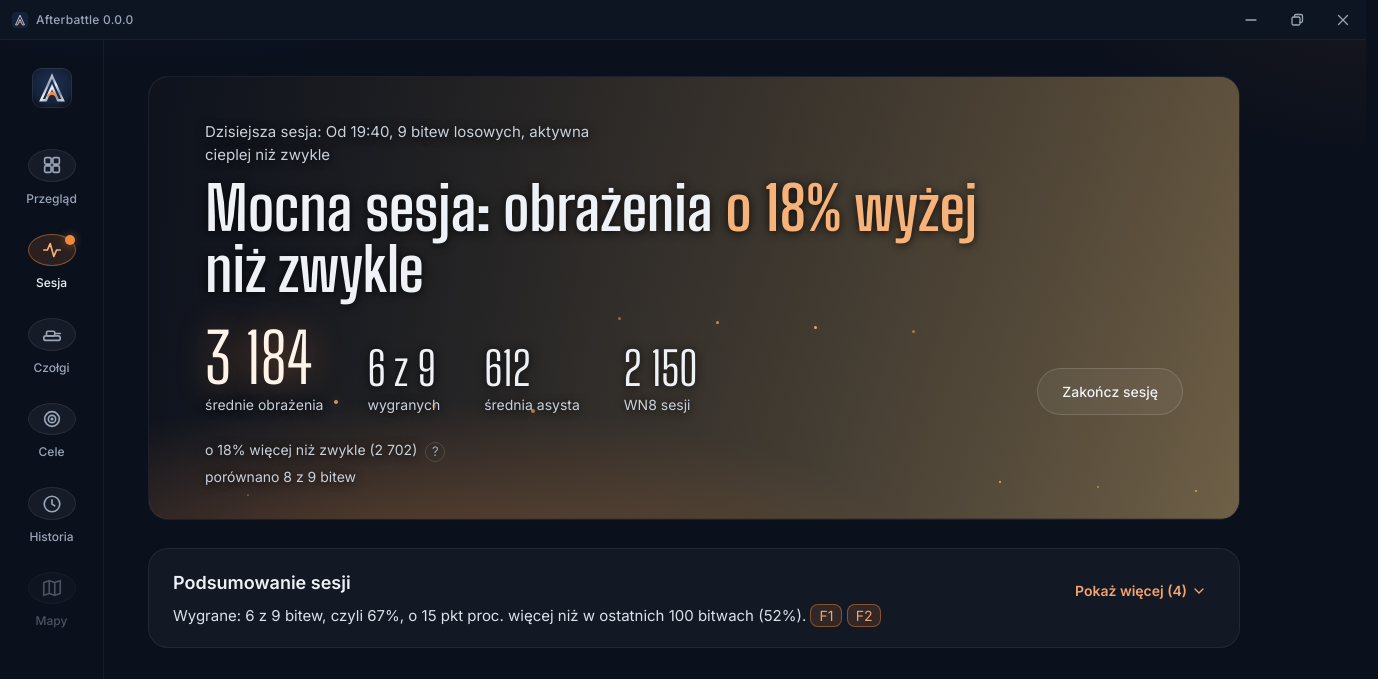
Tanks screen › compares the tank with the player's own average and shows best and worst maps
Step 1. Click the button "Czołgi" → (52, 348), box [20,317,84,378]
(page scrolled)
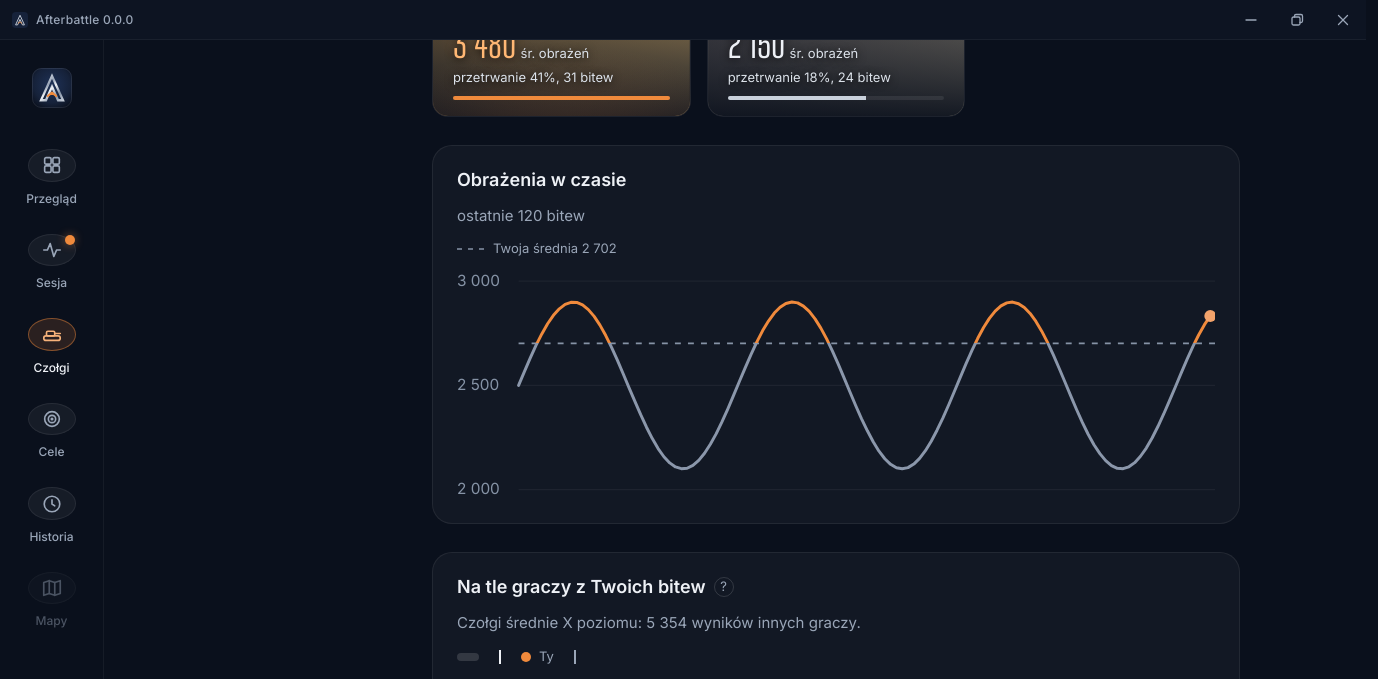
Expected: the picture named "Wykres obrażeń w czasie, 120 punktów" is shown, [457,266,1215,503]
